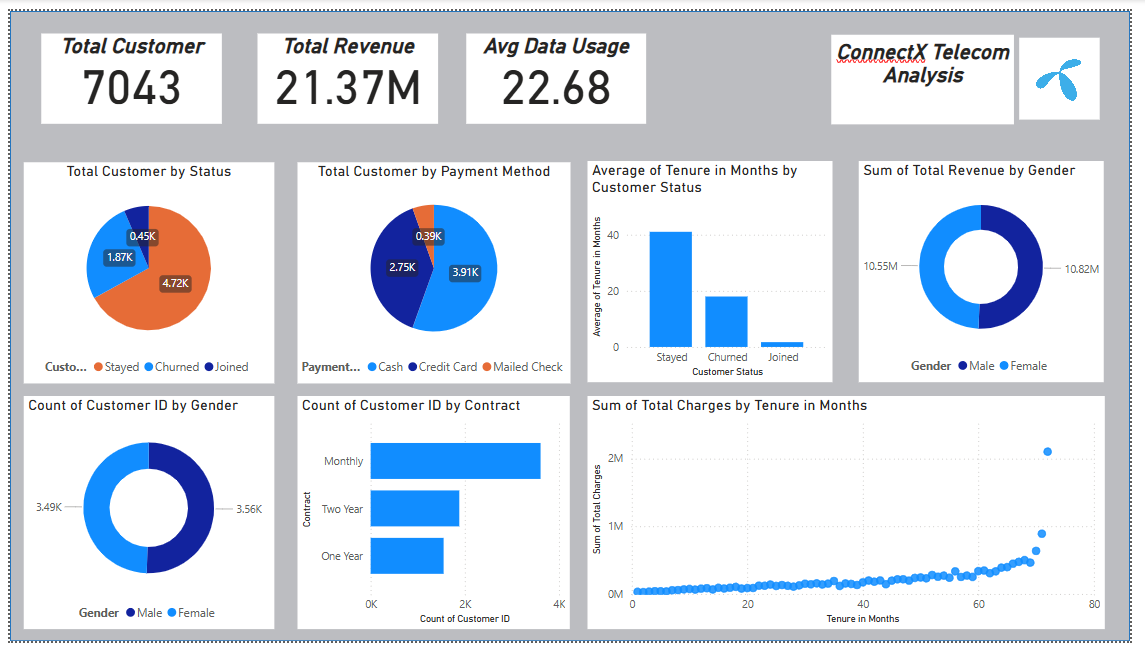

The page's visual inventory and layout, read from the dashboard file:
{"tool":"powerbi","page":{"name":"Page 1","canvas":[1280,720],"ordinal":0},"visuals":[{"type":"shape","box":[0,0,1280,720.3],"z":0},{"type":"card","title":"Total Customer","fields":{"Values":["Count(Details.Customer ID)"]},"box":[36.1,26.1,206.5,103.2],"z":1},{"type":"card","title":"Total Revenue","fields":{"Values":["Sum(Details.Total Revenue)"]},"box":[282.4,26.1,206.5,103.2],"z":2},{"type":"card","title":"Avg Data Usage","fields":{"Values":["Avg(Details.Avg Monthly GB Download)"]},"box":[521.2,26.1,205.3,103.2],"z":3},{"type":"pieChart","title":"Total Customer  by Status","fields":{"Category":["Details.Customer Status"],"Y":["CountNonNull(Details.Customer ID)"]},"box":[16.2,172.9,286.1,252.5],"z":4},{"type":"pieChart","title":"Total Customer by Payment Method","fields":{"Category":["Details.Payment Method"],"Y":["CountNonNull(Details.Customer ID)"]},"box":[328.4,172.9,312.2,252.5],"z":5},{"type":"clusteredColumnChart","fields":{"Category":["Details.Customer Status"],"Y":["Avg(Details.Tenure in Months)"]},"box":[659.3,171.7,279.9,252.5],"z":6},{"type":"donutChart","fields":{"Y":["Sum(Details.Total Revenue)"],"Category":["Details.Gender"]},"box":[970.3,171.7,279.9,252.5],"z":7},{"type":"donutChart","fields":{"Category":["Details.Gender"],"Y":["CountNonNull(Details.Customer ID)"]},"box":[16.2,440.4,286.1,266.2],"z":8},{"type":"clusteredBarChart","fields":{"Category":["Details.Contract"],"Y":["CountNonNull(Details.Customer ID)"]},"box":[328.4,440.4,311,266.2],"z":9},{"type":"scatterChart","fields":{"X":["Details.Tenure in Months"],"Y":["Sum(Details.Total Charges)"]},"box":[659.3,440.4,590.9,266.2],"z":10},{"type":"image","box":[1148.2,26.1,102,103.2],"z":11},{"type":"textbox","box":[939.2,27.4,209,102],"z":12}]}

Visuals, with their boxes in screenshot pixels (x1, y1, x2, y2), scaled from the page's 1280x720 canvas onto the 1145x657 screenshot:
shape: {"x1": 0, "y1": 0, "x2": 1144, "y2": 656}
"Total Customer" card: {"x1": 32, "y1": 24, "x2": 217, "y2": 118}
"Total Revenue" card: {"x1": 253, "y1": 24, "x2": 437, "y2": 118}
"Avg Data Usage" card: {"x1": 466, "y1": 24, "x2": 650, "y2": 118}
"Total Customer  by Status" pieChart: {"x1": 14, "y1": 158, "x2": 270, "y2": 388}
"Total Customer by Payment Method" pieChart: {"x1": 294, "y1": 158, "x2": 573, "y2": 388}
clusteredColumnChart - Details.Customer Status x Avg(Details.Tenure in Months): {"x1": 590, "y1": 157, "x2": 840, "y2": 387}
donutChart - Sum(Details.Total Revenue) x Details.Gender: {"x1": 868, "y1": 157, "x2": 1118, "y2": 387}
donutChart - Details.Gender x CountNonNull(Details.Customer ID): {"x1": 14, "y1": 402, "x2": 270, "y2": 645}
clusteredBarChart - Details.Contract x CountNonNull(Details.Customer ID): {"x1": 294, "y1": 402, "x2": 572, "y2": 645}
scatterChart - Details.Tenure in Months x Sum(Details.Total Charges): {"x1": 590, "y1": 402, "x2": 1118, "y2": 645}
image: {"x1": 1027, "y1": 24, "x2": 1118, "y2": 118}
textbox: {"x1": 840, "y1": 25, "x2": 1027, "y2": 118}
